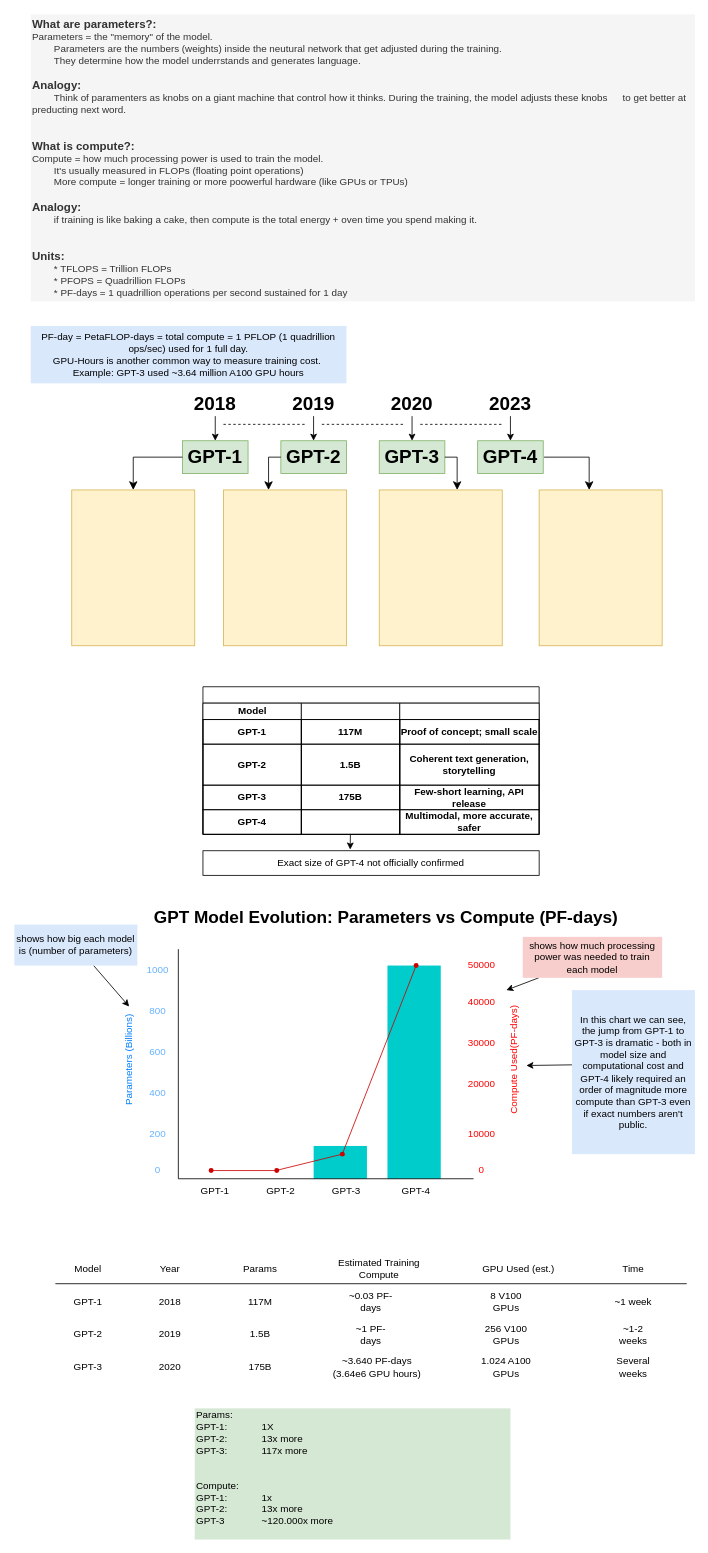
Some shapes in this 708 by 1553 pixel diagram are drawn without their labels. The shapes that lost their labels are listed below. From the top down, each one's box as (x1, y1, x2, y2) in pixels, then its label:
(71, 489, 195, 646): First major transformer-based language model by OpenAi
(223, 489, 346, 646): Much larger, withheld initially over concerns of misuse
(378, 489, 502, 646): Hugely popular due to its scale and versatility
(538, 489, 662, 646): Multimodal text + image, better reasoning, fewer hallucinations
(301, 702, 400, 834): Parameters
(202, 686, 539, 834): Model Comparison Table
(399, 702, 539, 834): Key features
(301, 809, 400, 834): ~1T*
